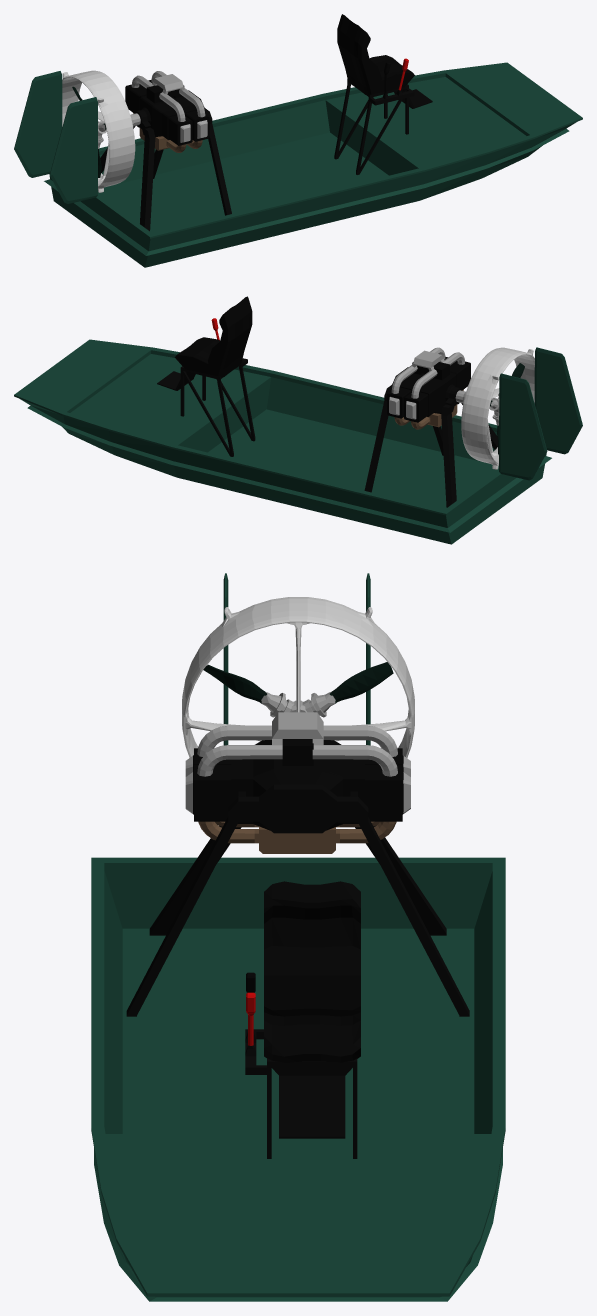
The model's file is airboat.obj.
3 views of the same model, one above another, from view 1: azimuth 30°, elevation 25°; view 2: azimuth 150°, elevation 25°; view 3: azimuth 270°, elevation 25° (orthographic). The views are drawn at different scales.
Visible parts, largest first — view 1: boat, rudder, shroud, seat, emounts, stand, engine, intakes, cylinders, exhaust, heads; view 2: boat, rudder, shroud, seat, emounts, stand, engine, intakes, cylinders, exhaust, heads; view 3: boat, seat, emounts, shroud, stand, intakes, engine, cylinders, exhaust, prop, rudder, hub.
Part boxes in pixels (x1,y1,x2,y2): boat: [44, 62, 582, 267]; rudder: [14, 71, 97, 203]; shroud: [62, 70, 135, 192]; seat: [337, 14, 414, 95]; emounts: [100, 90, 231, 231]; stand: [334, 78, 432, 174]; engine: [134, 85, 196, 139]; intakes: [131, 71, 205, 121]; cylinders: [125, 79, 209, 145]; exhaust: [133, 113, 202, 152]; heads: [180, 120, 207, 142]; boat: [14, 339, 551, 544]; rudder: [499, 347, 582, 480]; shroud: [461, 347, 534, 469]; seat: [175, 296, 252, 377]; emounts: [364, 367, 498, 507]; stand: [157, 358, 255, 456]; engine: [399, 362, 462, 416]; intakes: [391, 347, 464, 398]; cylinders: [387, 356, 470, 422]; exhaust: [394, 389, 463, 429]; heads: [389, 397, 416, 419]; boat: [91, 857, 505, 1301]; seat: [264, 881, 360, 1062]; emounts: [126, 784, 469, 1016]; shroud: [182, 597, 414, 757]; stand: [245, 1029, 357, 1158]; intakes: [197, 712, 397, 776]; engine: [230, 739, 366, 830]; cylinders: [193, 748, 403, 821]; exhaust: [198, 821, 396, 853]; prop: [203, 662, 393, 703]; rudder: [223, 573, 370, 745]; hub: [261, 692, 335, 717].
Size of the model in its own units: 16.23 by 4.8 by 5.68.
